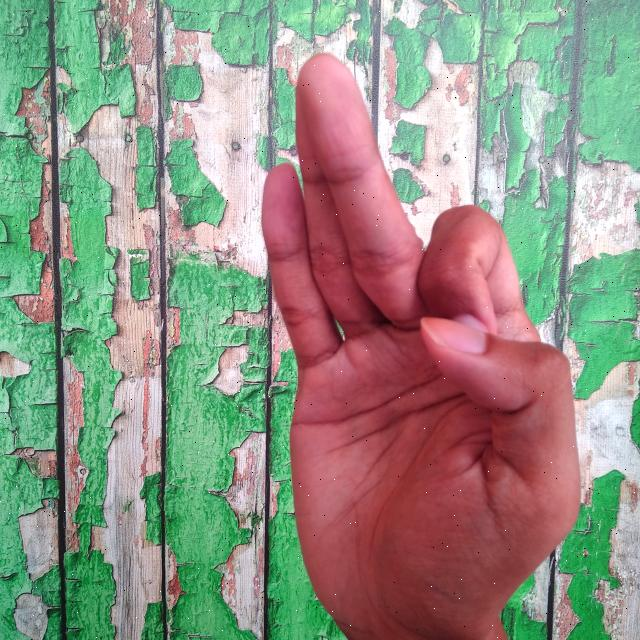F: (260, 51, 586, 640)
